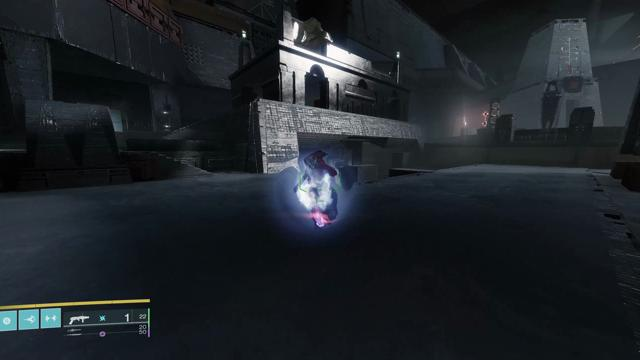stop: (566, 78, 581, 92)
